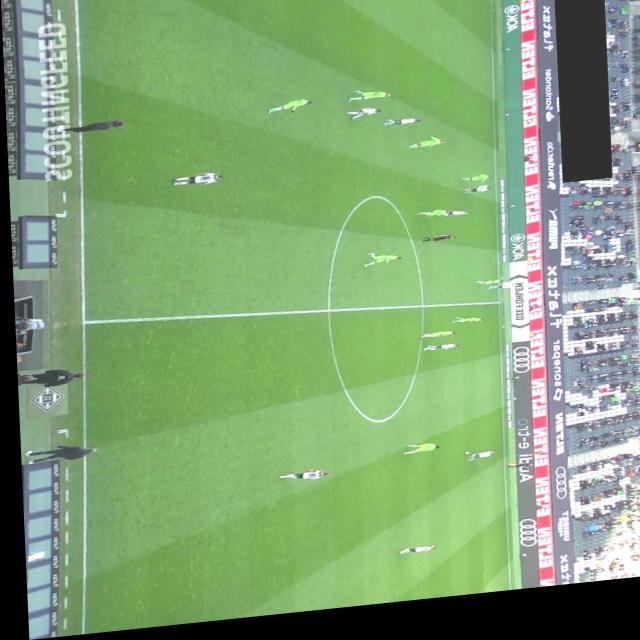player: (168, 174, 222, 193), (273, 473, 325, 489), (266, 104, 312, 120), (359, 258, 399, 276), (345, 95, 390, 110), (405, 144, 444, 159), (344, 114, 380, 128), (398, 451, 436, 464), (391, 553, 432, 563), (413, 217, 447, 228), (382, 125, 418, 135), (459, 460, 491, 471), (447, 324, 481, 334), (419, 352, 456, 361), (457, 184, 490, 194), (418, 339, 453, 348), (459, 194, 490, 204), (484, 292, 510, 301), (440, 219, 467, 227), (472, 288, 498, 296)
referee: (418, 243, 453, 253), (500, 473, 525, 481)
